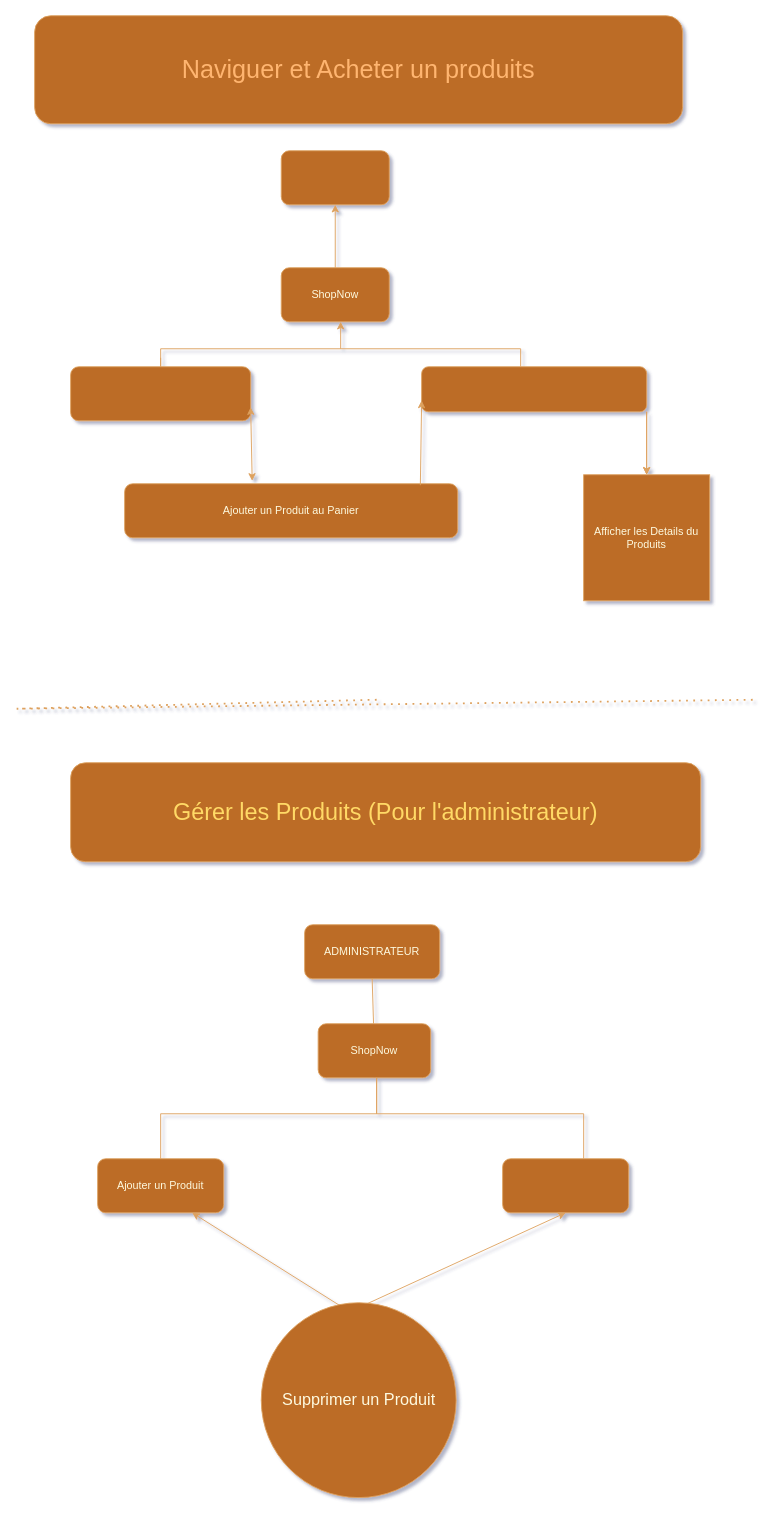
Image size: 777x1519. Some labels were removed from this diagram. The shapes that lost their labels are listed below. From the top down, each one's centre as x and y in pixels, then its label:
point (334, 177): utlisateur
point (160, 393): Parcourir les catégories de Produits
point (534, 389): Rechercher un Produit
point (565, 1185): Modifier un Produit
